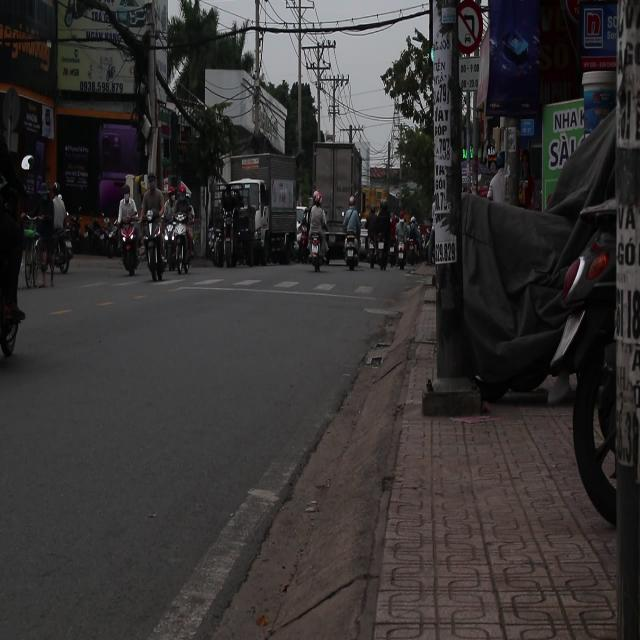motorbike: (118, 214, 144, 278), (143, 208, 167, 276), (307, 232, 329, 271), (343, 229, 360, 272), (368, 235, 388, 270)
